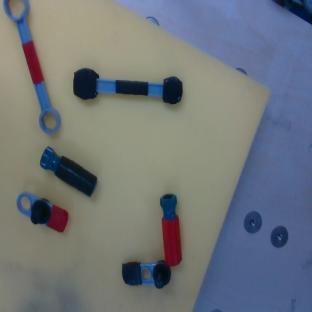part_1_bad: (122, 260, 171, 291)
part_1_good: (11, 190, 72, 235)
part_2_bad: (36, 145, 102, 197)
part_2_good: (159, 193, 183, 266)
part_3_bad: (72, 67, 184, 108)
